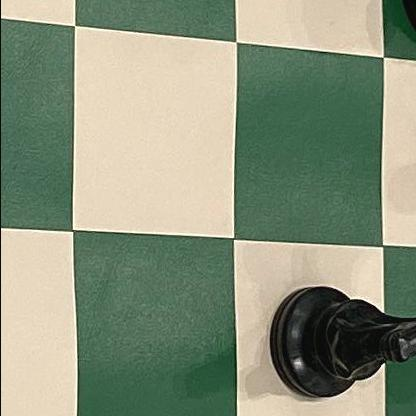black-knight: (263, 272, 416, 416)
